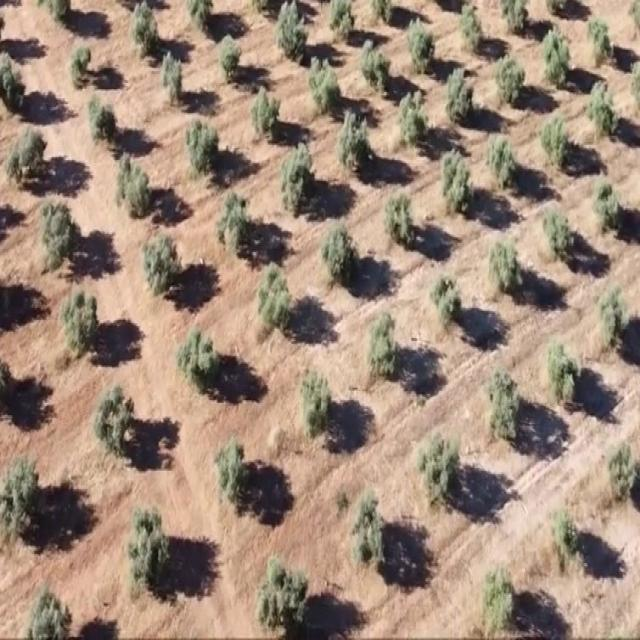trees: (254, 549, 312, 640), (211, 190, 277, 263), (121, 505, 174, 595), (414, 426, 465, 513), (0, 452, 43, 550), (58, 275, 104, 366), (590, 274, 636, 361), (320, 210, 368, 290), (347, 484, 389, 574), (604, 419, 640, 522), (174, 326, 224, 400), (88, 384, 136, 461), (477, 556, 521, 638), (255, 260, 301, 338), (137, 224, 184, 300), (544, 333, 585, 420), (276, 138, 318, 222), (40, 190, 85, 268), (209, 433, 255, 508), (484, 365, 526, 447), (363, 308, 404, 388), (336, 106, 378, 184), (484, 223, 527, 299), (436, 147, 476, 226), (115, 151, 158, 224), (541, 197, 585, 268), (294, 362, 334, 440), (586, 173, 632, 240), (378, 180, 420, 252), (2, 124, 48, 188), (484, 127, 524, 199), (20, 584, 73, 638), (183, 116, 225, 184), (425, 266, 467, 334), (438, 63, 478, 134), (536, 113, 578, 180), (582, 78, 623, 144), (395, 85, 434, 153), (309, 55, 348, 122), (540, 24, 577, 94), (490, 50, 529, 116), (402, 14, 441, 79), (274, 0, 312, 64), (356, 43, 396, 102), (249, 82, 287, 144), (129, 3, 164, 64), (86, 95, 122, 153), (157, 48, 190, 108), (585, 12, 619, 70), (454, 2, 488, 60), (217, 32, 250, 90), (0, 53, 29, 113), (328, 0, 362, 49), (498, 0, 536, 36), (184, 0, 222, 35), (67, 42, 93, 87)
